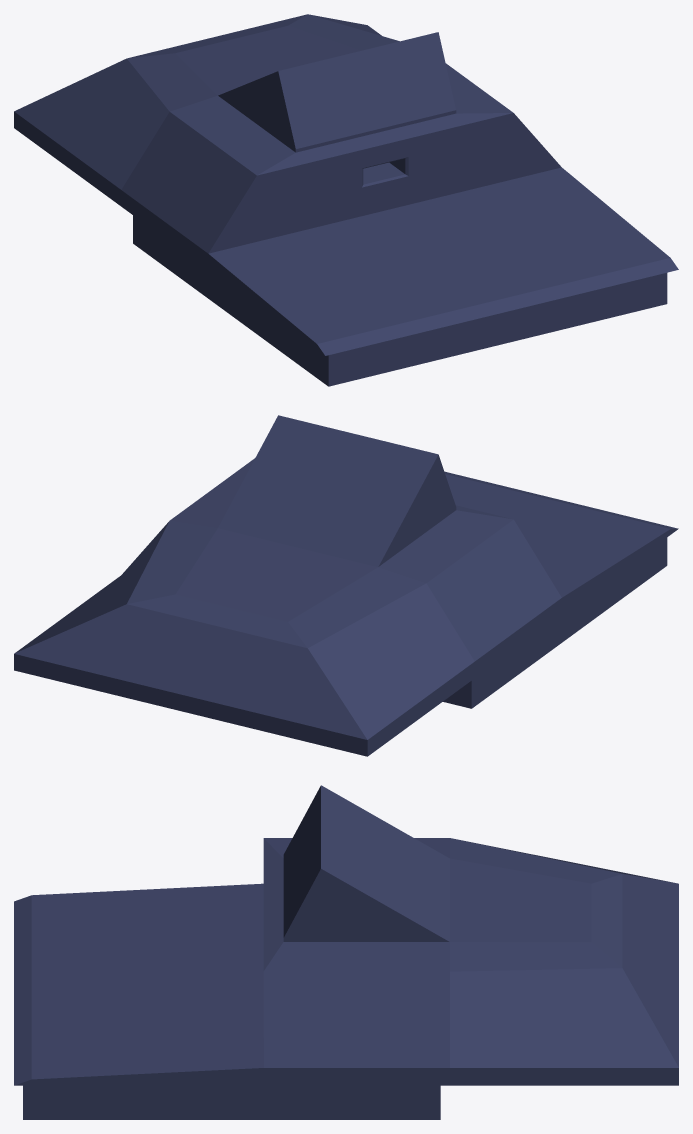
The model's file is BaseModuleSlingshot.fbx.
3 views of the same model, one above another, from view 1: azimuth 30°, elevation 25°; view 2: azimuth 150°, elevation 25°; view 3: azimuth 270°, elevation 25° (orthographic). The views are drawn at different scales.
Parts seen in each view (by area): view 1: BaseModuleSlingshot; view 2: BaseModuleSlingshot; view 3: BaseModuleSlingshot.
Boxes of the visible parts, <box> form: BaseModuleSlingshot: <box>14,14,678,386</box>; BaseModuleSlingshot: <box>14,415,678,756</box>; BaseModuleSlingshot: <box>14,785,678,1119</box>.
Bounding box in the file's own units: 23.61 × 12.23 × 36.02.
